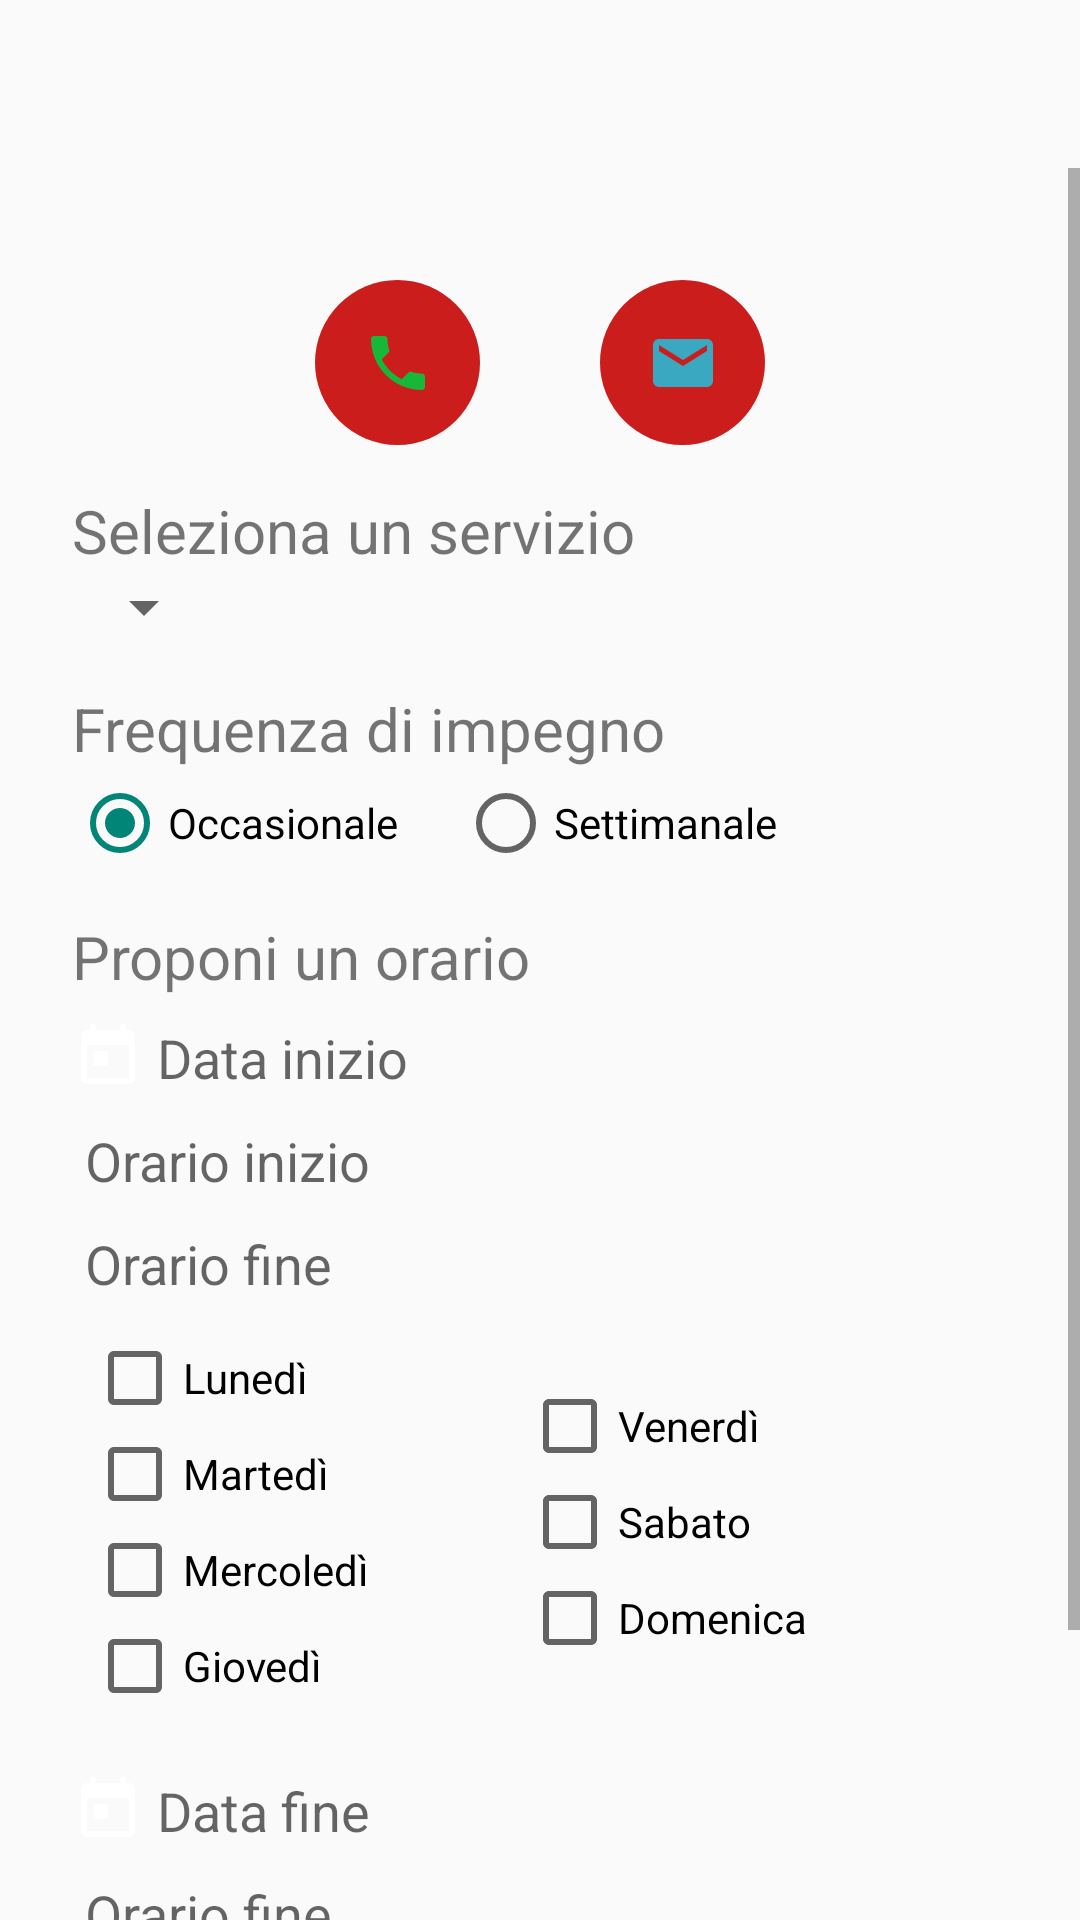

Locate icon controls on the screen. Image size 1080x1920, boxes as bbox=(x1, y1, x2, y2).
mail: bbox=(600, 280, 765, 445)
phone: bbox=(315, 280, 480, 445)
